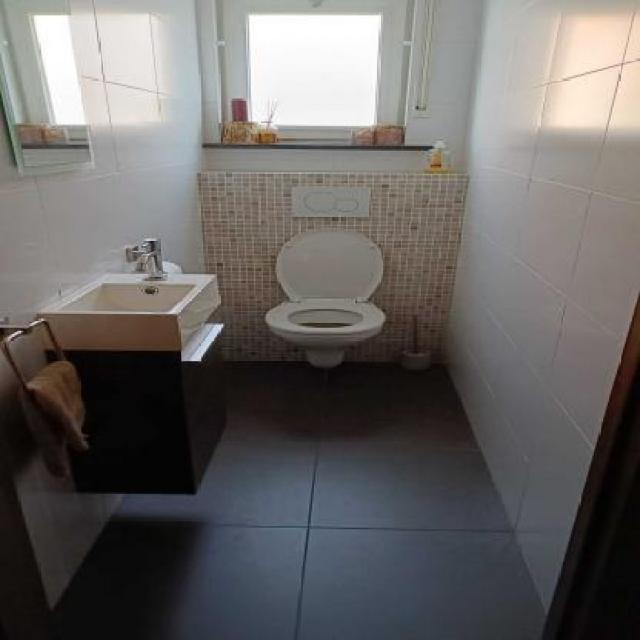Floor: (50, 359, 548, 640)
